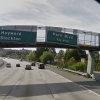Car: (23, 60, 37, 72)
